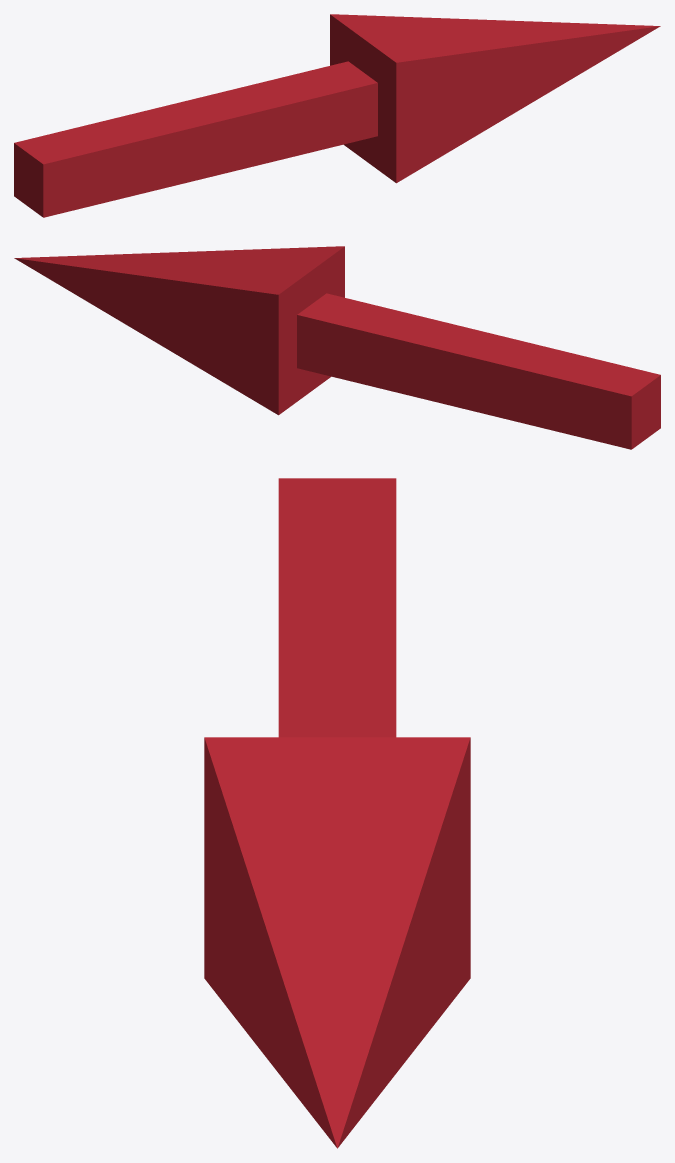
The model's file is transformgizmoX.glb.
3 renders of one model, top to bottom at view 1: azimuth 30°, elevation 25°; view 2: azimuth 150°, elevation 25°; view 3: azimuth 270°, elevation 25°, orthographic. The views are drawn at different scales.
Parts seen in each view (by area): view 1: Cube; view 2: Cube; view 3: Cube.
Boxes of the visible parts, left/top/right/bottom form: Cube: left=14, top=14, right=660, bottom=217; Cube: left=14, top=246, right=660, bottom=449; Cube: left=204, top=478, right=470, bottom=1148.
Size of the model in its own units: 1.05 by 0.1911 by 0.1911.
Materials: 1 (1 with a texture image).
